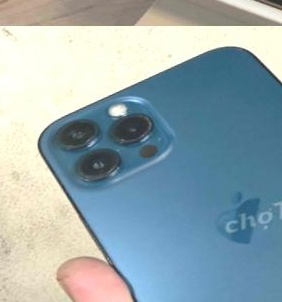scratch: (177, 158, 282, 277)
